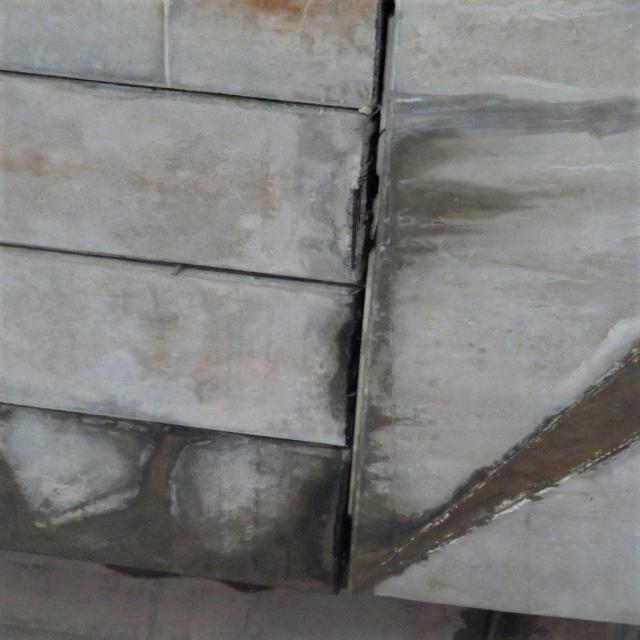Rebar: (342, 132, 369, 272)
